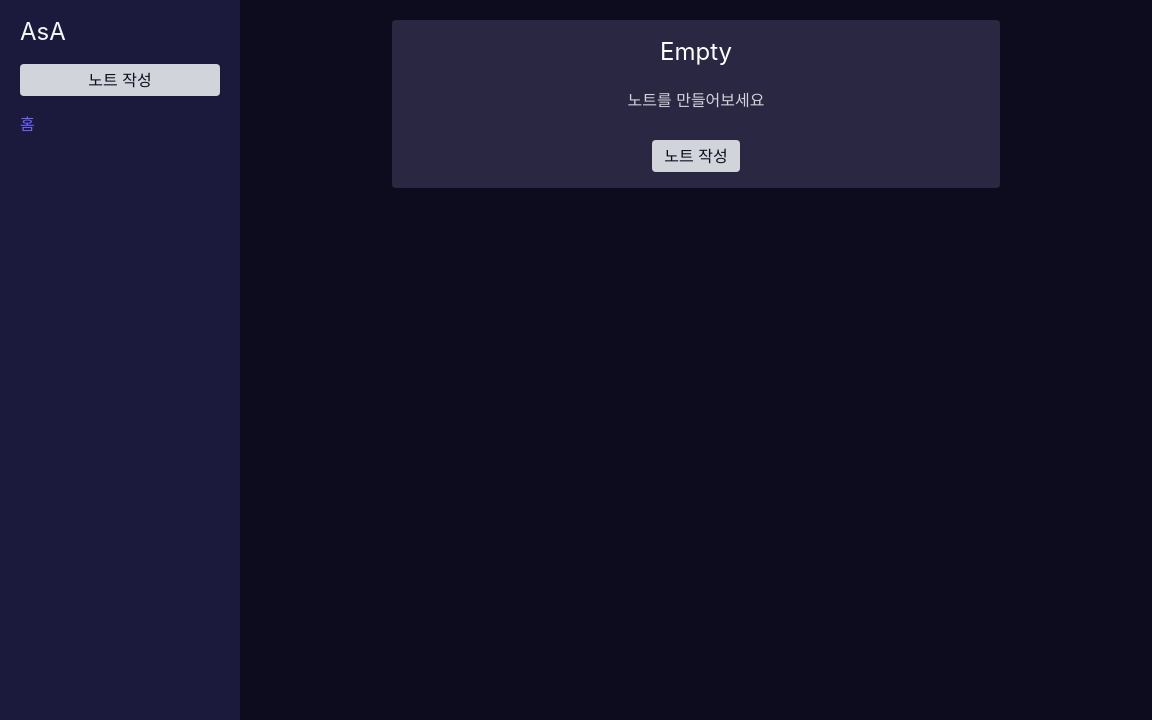
Test: 노트 추가 및 편집 기능 › 새로운 노트 추가, Notes Routing, 사이드바에 링크 추가
The image size is (1152, 720).
Click the button "노트 작성" below "AsA": click(120, 80) [20, 64, 220, 96]
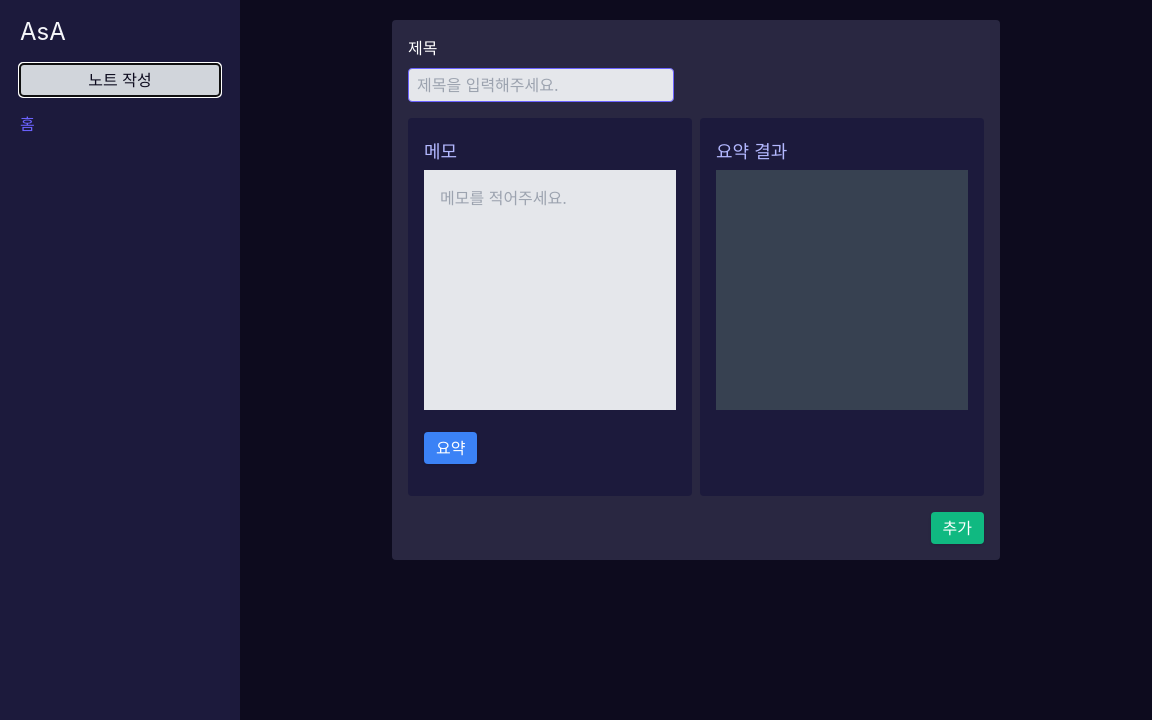
Result: the field with test id "title" is shown
Result: the number of text boxes with test id "content" is 2 at [424, 170, 676, 410]; [716, 170, 968, 410]
Clear the field with test id "title": (541, 85) [408, 68, 674, 102]
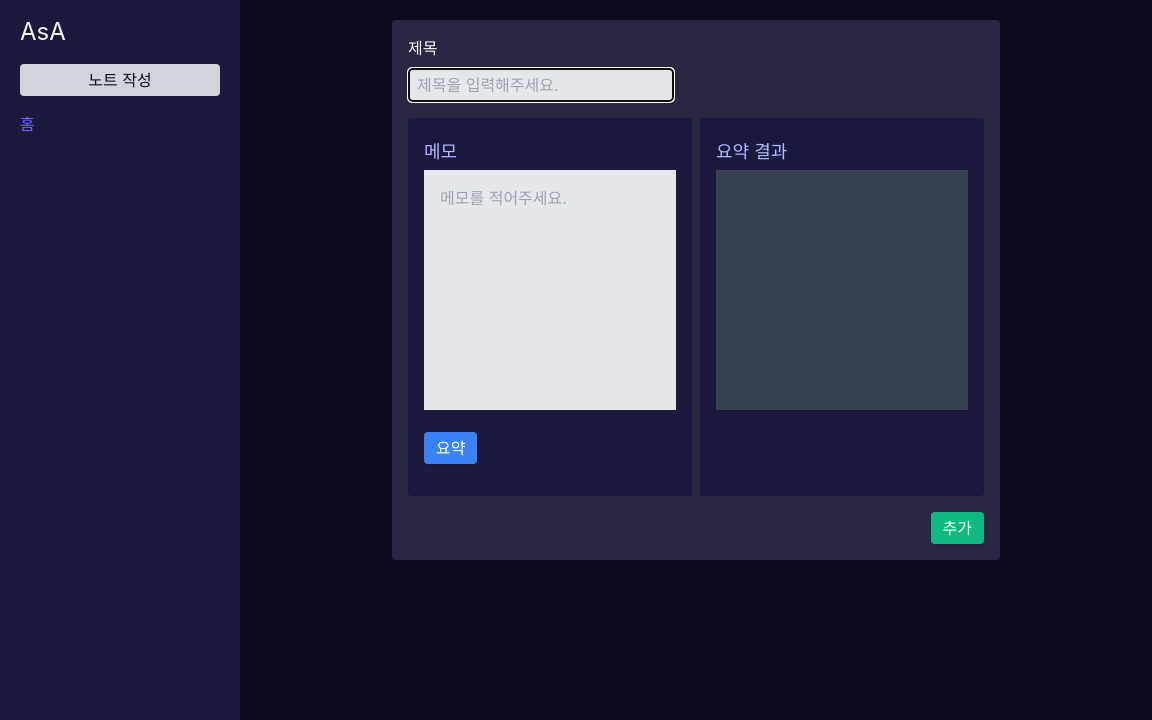
Clear the text box with test id "content" showing "메모를 적어주세요.": (550, 290) [424, 170, 676, 410]
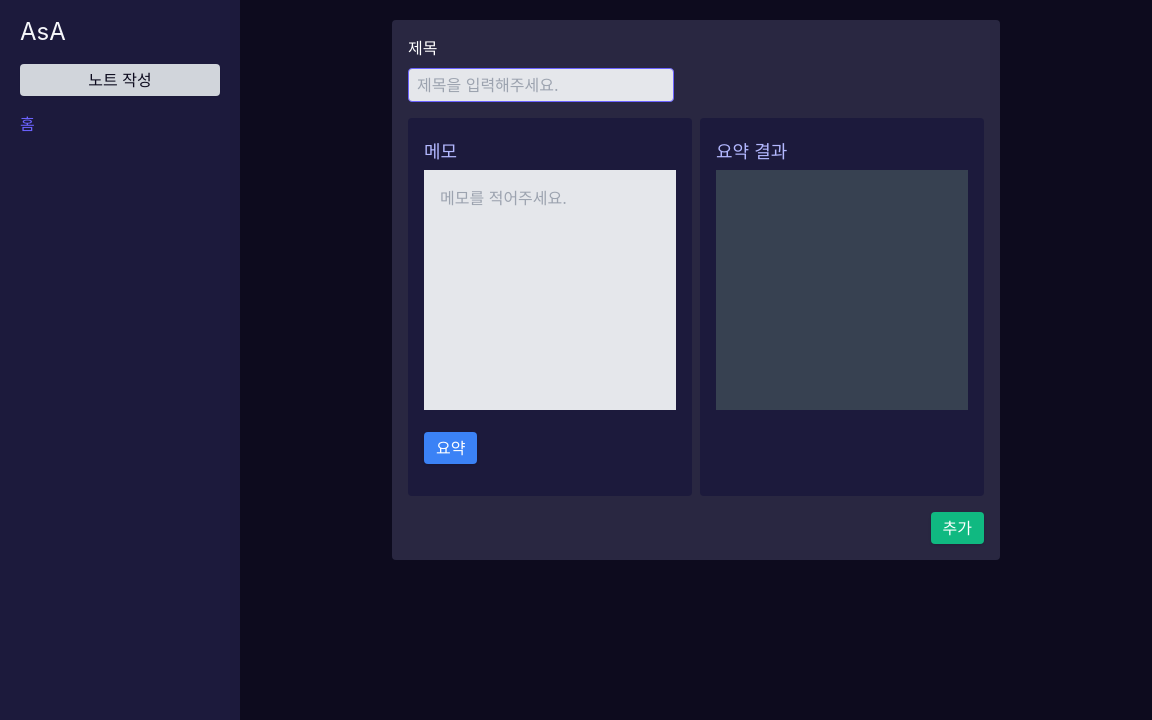
In the field with test id "title": (541, 85) [408, 68, 674, 102], type "New Title"
In the text box with test id "content" showing "메모를 적어주세요.": (550, 290) [424, 170, 676, 410], type "이것은 테스트를 위한 충분히 긴 메모 내용입니다. 최소 30자 이상이어야 합니다."
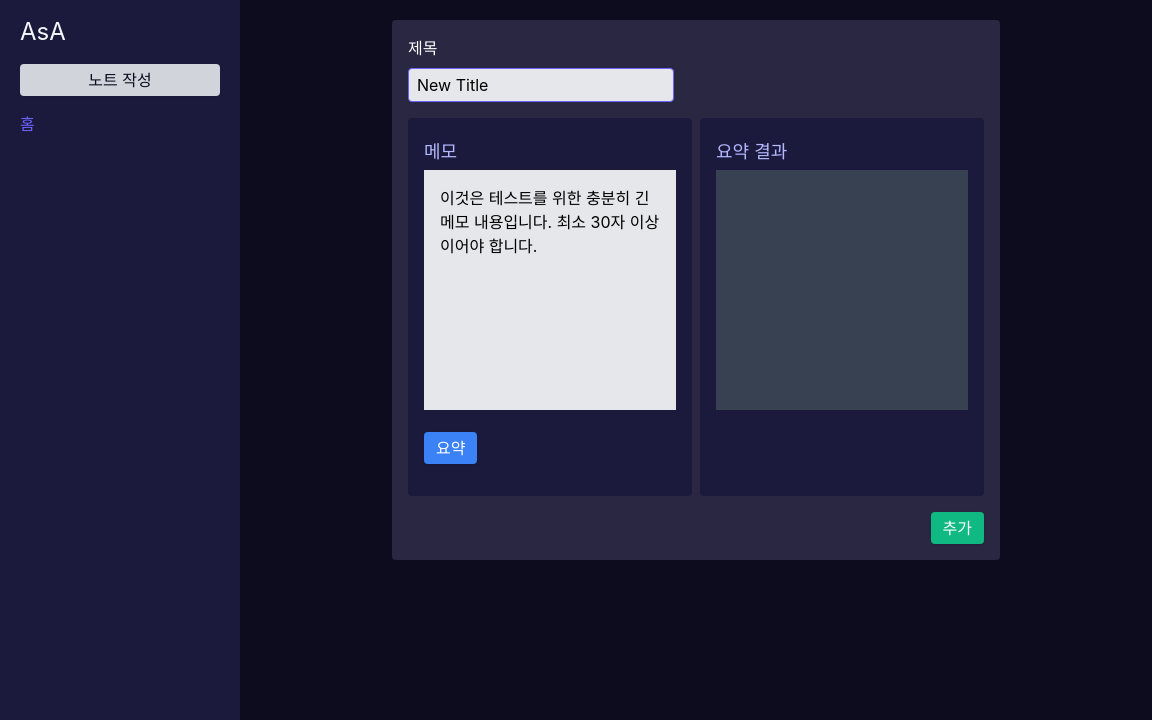
// 요약 버튼 클릭하여 요약 생성 (validation 통과를 위해)
Click the button "요약": click(451, 448) [424, 432, 478, 464]
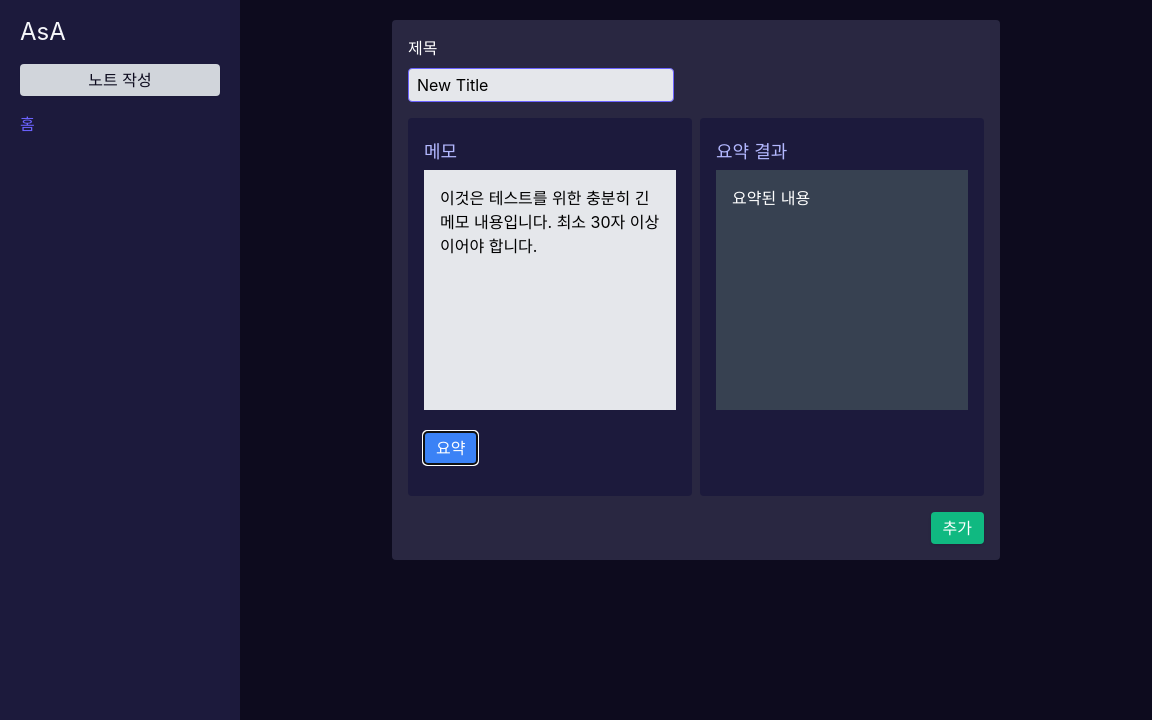
Result: the text box with test id "content" holds "요약된 내용" at [716, 170, 968, 410]
Click the button "추가": click(957, 528) [930, 512, 984, 544]
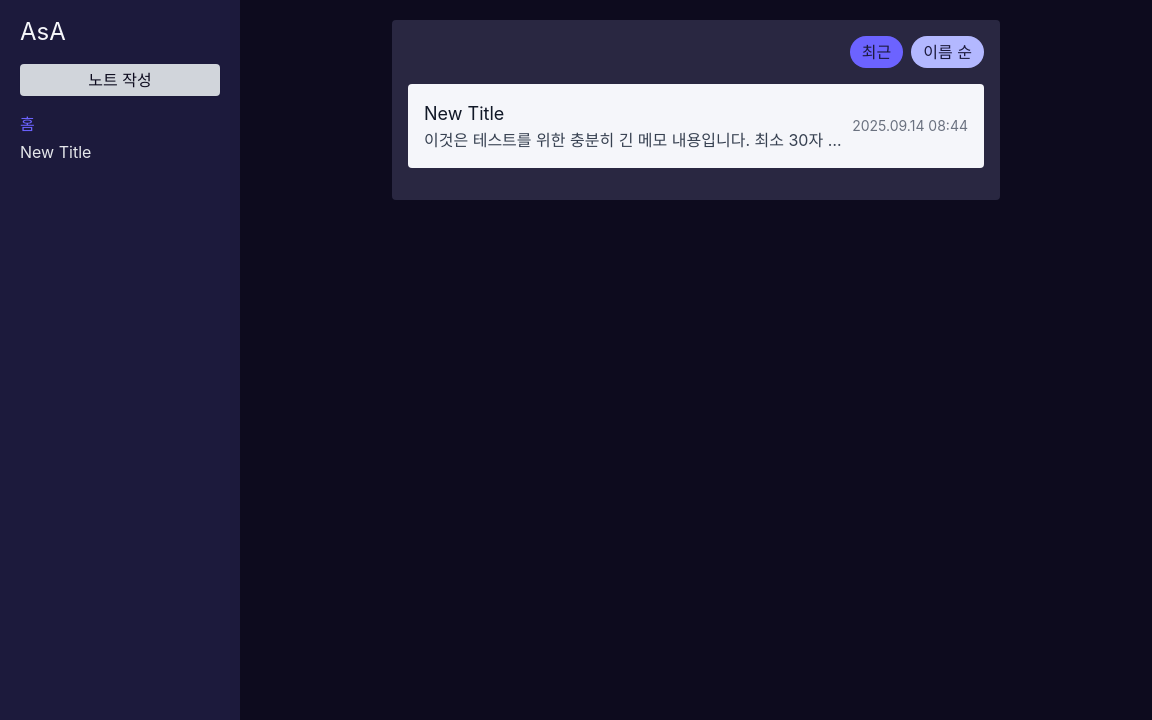
Result: the link "New Title" is shown at [20, 142, 91, 162]
Result: the text "이것은 테스트를 위한 충분히 긴 메모 내용입니다. 최소 30자 이상이어야 합니다." is shown at [424, 128, 844, 152]
